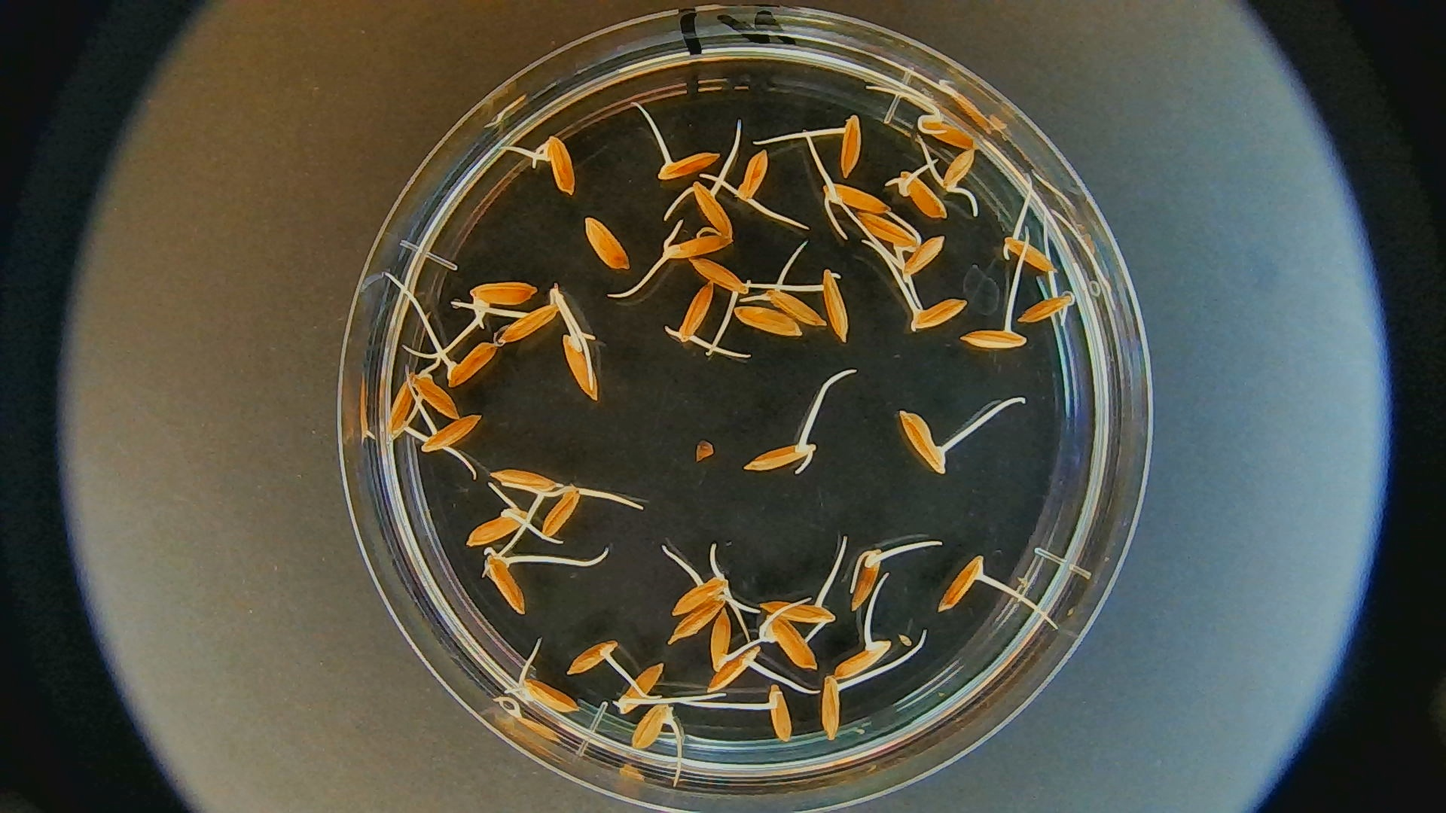no: (584, 214, 633, 270), (733, 305, 798, 340), (674, 595, 721, 640)
yes: (761, 615, 822, 669), (898, 410, 945, 477), (935, 555, 989, 612), (558, 333, 599, 403), (467, 501, 530, 546), (464, 279, 541, 315), (684, 181, 734, 236), (894, 168, 948, 218), (484, 553, 526, 617), (612, 664, 664, 714), (760, 590, 832, 626), (499, 301, 560, 343), (444, 341, 496, 390), (850, 214, 920, 250), (674, 283, 716, 343), (419, 414, 483, 453), (849, 544, 886, 611), (709, 647, 760, 695), (832, 639, 892, 678), (523, 674, 581, 714), (767, 289, 825, 329), (660, 232, 737, 262), (411, 372, 461, 418), (749, 440, 816, 474), (540, 489, 584, 540), (819, 267, 850, 339), (538, 135, 575, 195), (917, 112, 977, 148), (630, 702, 673, 752), (825, 181, 889, 214), (656, 147, 714, 182), (1003, 233, 1050, 276), (493, 464, 560, 494), (674, 574, 723, 614), (962, 322, 1025, 352), (385, 377, 415, 440), (708, 606, 736, 673), (693, 260, 748, 294), (762, 683, 794, 741), (901, 233, 944, 276), (1018, 288, 1069, 324), (909, 297, 964, 330), (733, 148, 768, 199), (570, 637, 618, 674), (938, 151, 975, 193), (820, 678, 846, 736), (837, 118, 862, 178)
